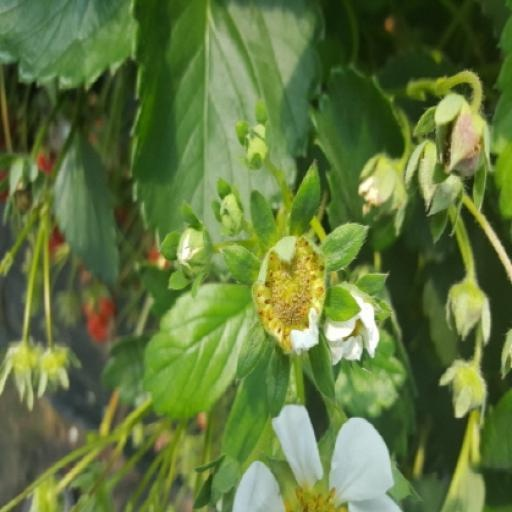Blossom Blight: (183, 236, 258, 351)
